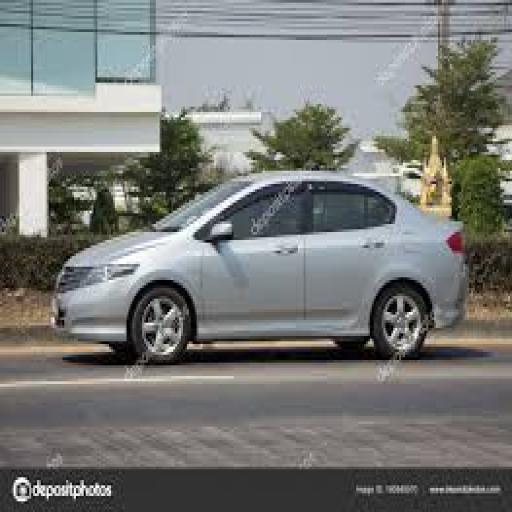License: (50, 292, 68, 320)
